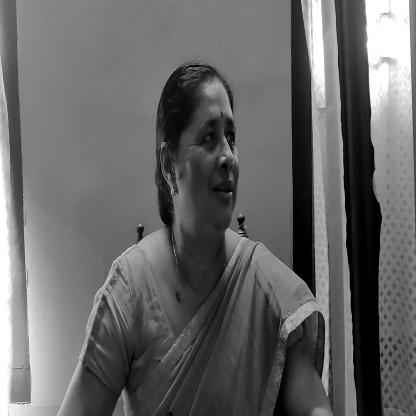Distracted: (150, 62, 254, 236)
